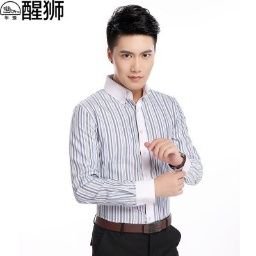face: (104, 3, 158, 93)
